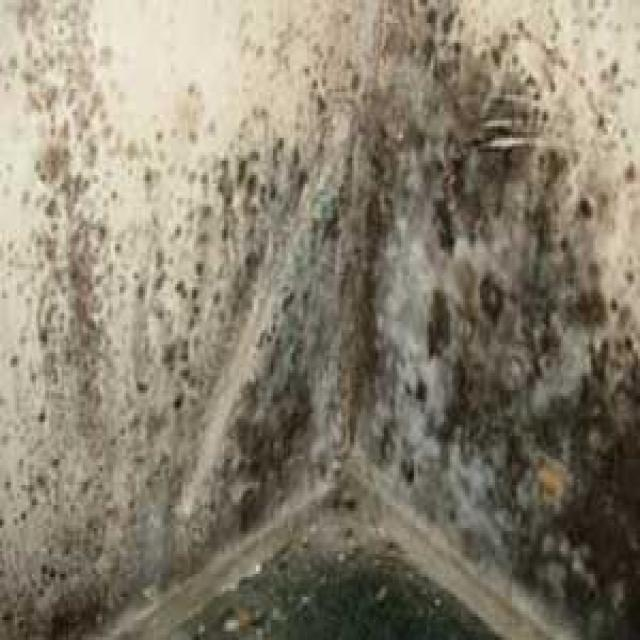stain_mould: (0, 4, 639, 639)
